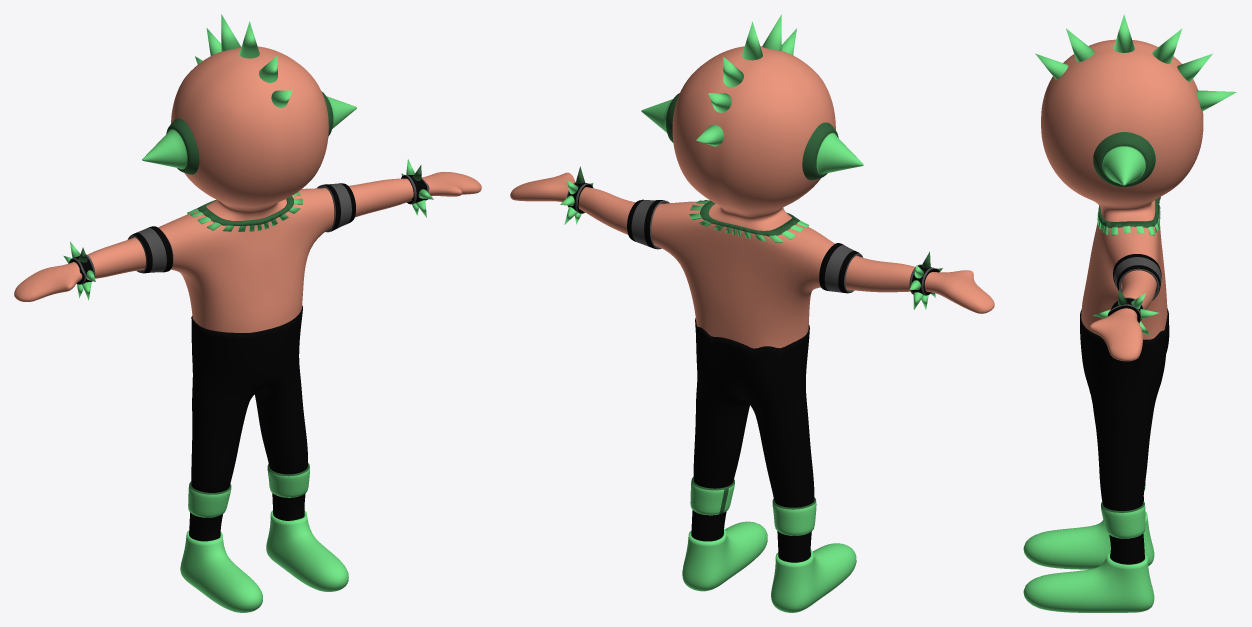
The model's file is VillanCharacter.fbx.
3 views of the same model, side by side, from view 1: azimuth 30°, elevation 25°; view 2: azimuth 150°, elevation 25°; view 3: azimuth 270°, elevation 25° (orthographic). The views are drawn at different scales.
Visible parts, largest first — view 1: Hand Cone Top 7; view 2: Hand Cone Top 7; view 3: Hand Cone Top 7.
Part boxes in pixels (x1,y1,x2,y2): Hand Cone Top 7: (14, 14, 481, 612); Hand Cone Top 7: (510, 14, 994, 612); Hand Cone Top 7: (1023, 14, 1236, 612).
Bounding box in the file's own units: 428 × 490 × 165.
